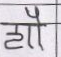ai_matra: (25, 5, 45, 23)
